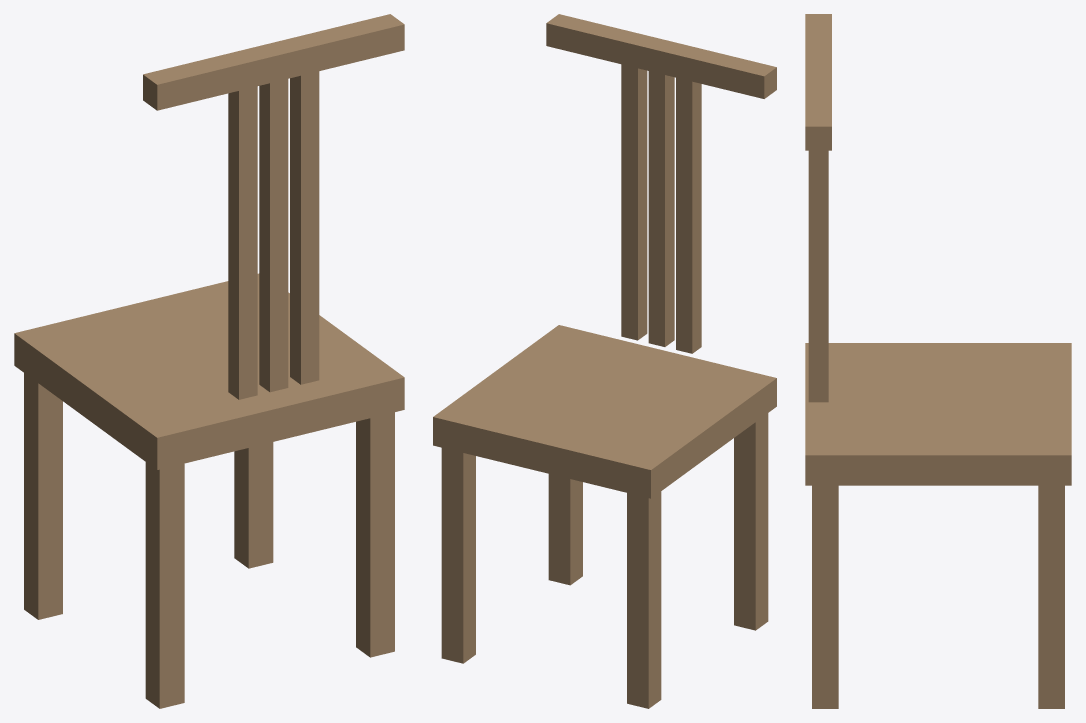
File: PeasantChair.fbx
3 views of the same model, side by side, from view 1: azimuth 30°, elevation 25°; view 2: azimuth 150°, elevation 25°; view 3: azimuth 270°, elevation 25° (orthographic). The views are drawn at different scales.
Parts seen in each view (by area): view 1: PeasantChair; view 2: PeasantChair; view 3: PeasantChair.
Part boxes in pixels (<box>): PeasantChair: <box>14,14,404,708</box>; PeasantChair: <box>433,14,776,708</box>; PeasantChair: <box>805,14,1071,708</box>.
Bounding box in the file's own units: 40 × 97 × 40.
